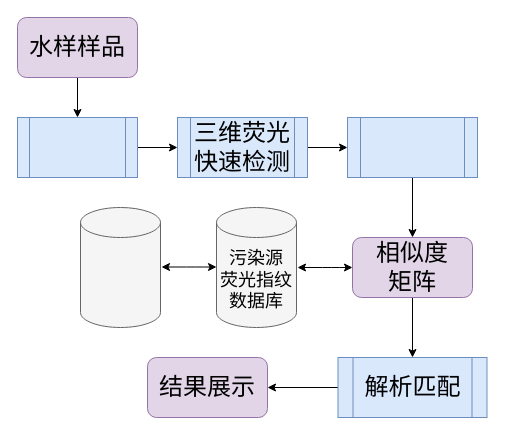
The diagram is 505 pixels wide and 435 high, and some of its shapes have lost their labels. Here are the shapes that lost their labels. From the top down, the centre of each, then its label:
At point (77, 147): "预处理".
At point (412, 147): "峰识别 匹配".
At point (120, 267): "纯化学品荧光 指纹数据库".
